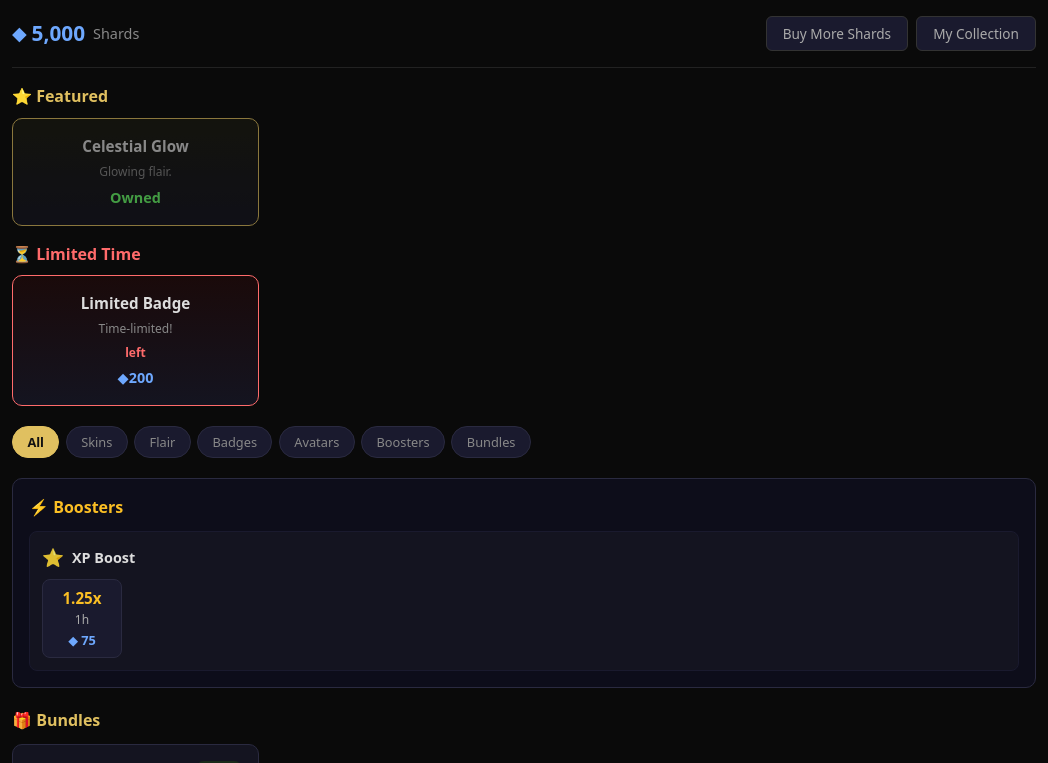
Test: EmporiumTab › switches to My Collection view
Click the button "My Collection" at (976,34), box [916,16,1036,51]
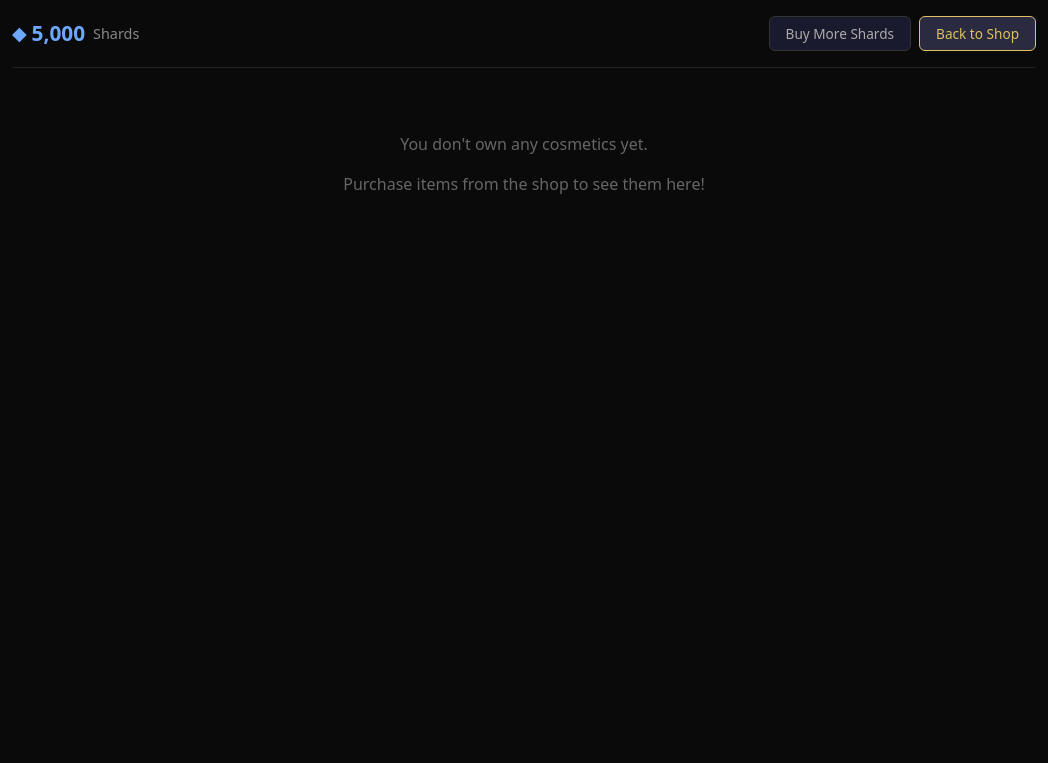
Expected: the text "You don't own any cosmetics yet." is shown, [400,133,648,155]
